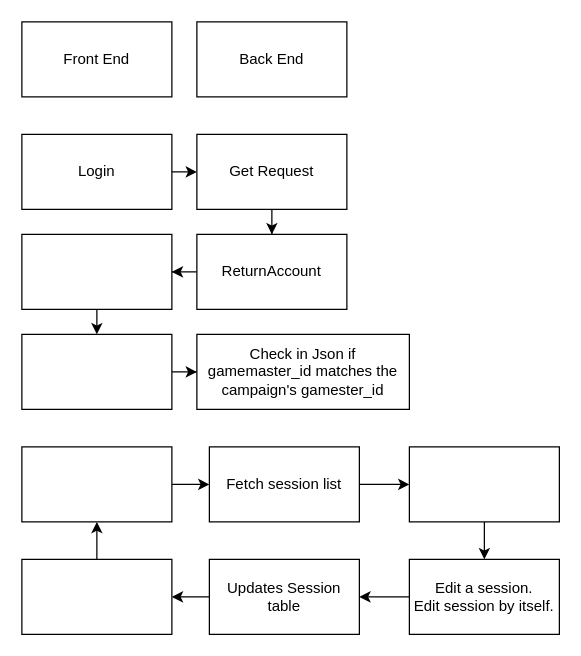
The diagram is 581 pixels wide and 656 high, and some of its shapes have lost their labels. The box of each missing label's shape, as (x1, y1, x2, y2) in pixels:
...Link all of the Sessions with the Events: (408, 446, 559, 522)
Any Request: (21, 333, 172, 409)
GameMaster_id: (21, 233, 172, 309)
User confirms it.: (21, 558, 172, 634)
User goes to the campaign calendar: (21, 446, 172, 522)
